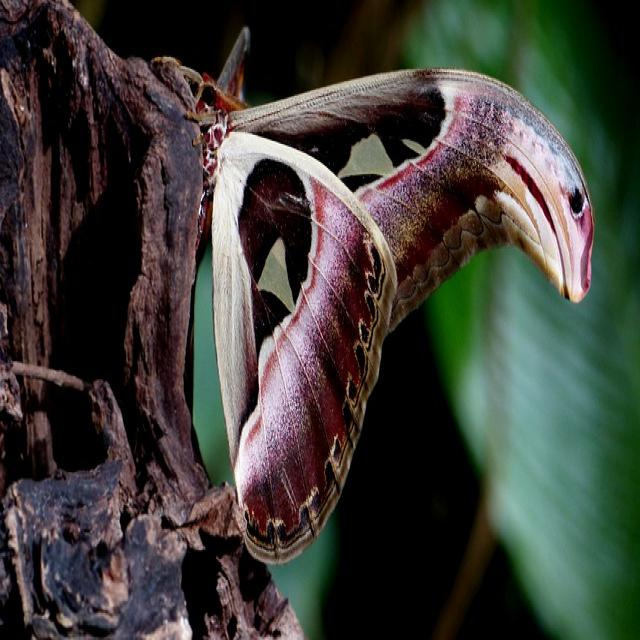butterfly: (212, 69, 594, 561)
